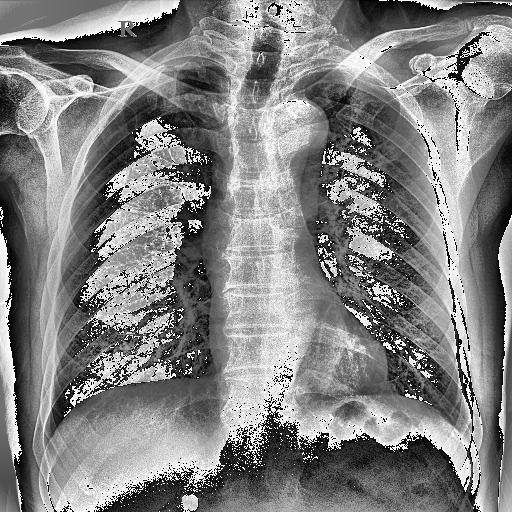0- Aortic enlargement: (204, 102, 344, 194)
11- Pleural thickening: (90, 14, 236, 202), (281, 56, 390, 92), (134, 54, 226, 81)
13- Pulmonary fibrosis: (90, 14, 236, 202)
2- Calcification: (256, 74, 342, 186), (180, 164, 192, 176)
5- ILD: (34, 130, 196, 394), (315, 184, 465, 420)
